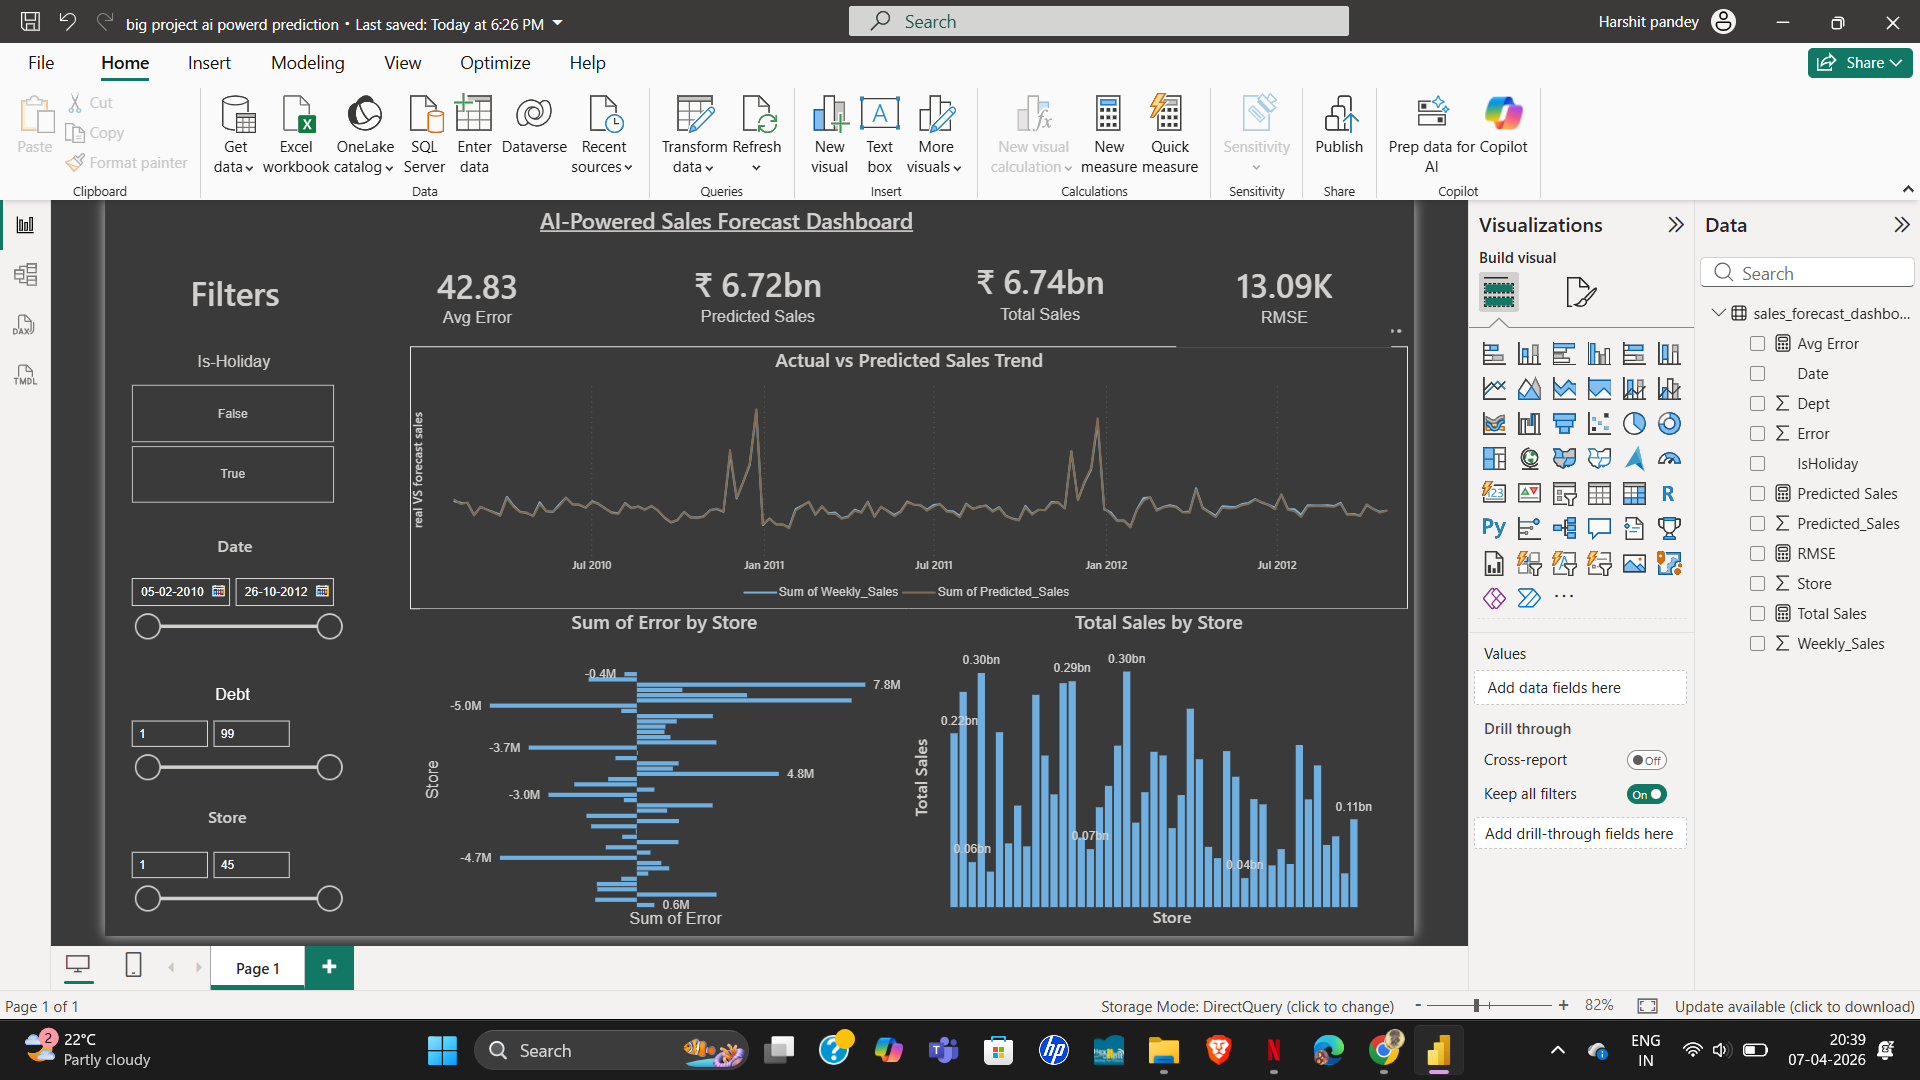

The page's visual inventory and layout, read from the dashboard file:
{"tool":"powerbi","page":{"name":"Page 1","canvas":[1280,720],"ordinal":0},"visuals":[{"type":"lineChart","title":"Actual vs Predicted Sales Trend","fields":{"Category":["sales_forecast_dashboard.Date"],"Y":["Sum(sales_forecast_dashboard.Weekly_Sales)","Sum(sales_forecast_dashboard.Predicted_Sales)"]},"box":[298.4,143.1,975.8,256.8],"z":0},{"type":"cardVisual","fields":{"Data":["sales_forecast_dashboard.Avg Error"]},"box":[240.3,42.8,245.8,99],"z":1},{"type":"cardVisual","fields":{"Data":["sales_forecast_dashboard.Predicted Sales"]},"box":[503.8,44,270.2,96.6],"z":2},{"type":"cardVisual","fields":{"Data":["sales_forecast_dashboard.Total Sales"]},"box":[809.5,40.4,209.1,96.6],"z":3},{"type":"cardVisual","fields":{"Data":["sales_forecast_dashboard.RMSE"]},"box":[1048,40.4,210.3,103.9],"z":4},{"type":"textbox","box":[420.7,0,380.3,44],"z":5},{"type":"clusteredBarChart","fields":{"Category":["sales_forecast_dashboard.Store"],"Y":["Sum(sales_forecast_dashboard.Error)"]},"box":[308.2,399.9,478.1,316.7],"z":6},{"type":"clusteredColumnChart","fields":{"Category":["sales_forecast_dashboard.Store"],"Y":["sales_forecast_dashboard.Total Sales"]},"box":[786.3,399.9,489.1,316.7],"z":7},{"type":"slicer","fields":{"Values":["sales_forecast_dashboard.Store"]},"box":[13.5,627.3,227.4,89.3],"z":8},{"type":"slicer","fields":{"Values":["sales_forecast_dashboard.Dept"]},"box":[13.5,498.9,227.4,77],"z":9},{"type":"slicer","fields":{"Values":["sales_forecast_dashboard.Date"]},"box":[13.5,359.5,227.4,89.3],"z":10},{"type":"slicer","fields":{"Values":["sales_forecast_dashboard.IsHoliday"]},"box":[0,173.6,248.2,129.6],"z":11},{"type":"textbox","box":[44,64.8,166.3,79.5],"z":12},{"type":"textbox","box":[85.6,321.6,83.2,37.9],"z":13},{"type":"textbox","box":[85.6,144.3,96.6,29.3],"z":14},{"type":"textbox","box":[90.5,467.1,68.5,31.8],"z":15},{"type":"textbox","box":[85.6,587,68.5,40.4],"z":16}]}

Visuals, with their boxes on the page's 1280x720 design canvas (x1, y1, x2, y2). These are canvas units, not pixel positions in the 1920x1080 screenshot, which may show the page scaled, cropped or inside an application window:
"Actual vs Predicted Sales Trend" lineChart: <bbox>298, 143, 1274, 400</bbox>
cardVisual - sales_forecast_dashboard.Avg Error: <bbox>240, 43, 486, 142</bbox>
cardVisual - sales_forecast_dashboard.Predicted Sales: <bbox>504, 44, 774, 141</bbox>
cardVisual - sales_forecast_dashboard.Total Sales: <bbox>810, 40, 1019, 137</bbox>
cardVisual - sales_forecast_dashboard.RMSE: <bbox>1048, 40, 1258, 144</bbox>
textbox: <bbox>421, 0, 801, 44</bbox>
clusteredBarChart - sales_forecast_dashboard.Store x Sum(sales_forecast_dashboard.Error): <bbox>308, 400, 786, 717</bbox>
clusteredColumnChart - sales_forecast_dashboard.Store x sales_forecast_dashboard.Total Sales: <bbox>786, 400, 1275, 717</bbox>
slicer - sales_forecast_dashboard.Store: <bbox>14, 627, 241, 717</bbox>
slicer - sales_forecast_dashboard.Dept: <bbox>14, 499, 241, 576</bbox>
slicer - sales_forecast_dashboard.Date: <bbox>14, 360, 241, 449</bbox>
slicer - sales_forecast_dashboard.IsHoliday: <bbox>0, 174, 248, 303</bbox>
textbox: <bbox>44, 65, 210, 144</bbox>
textbox: <bbox>86, 322, 169, 360</bbox>
textbox: <bbox>86, 144, 182, 174</bbox>
textbox: <bbox>90, 467, 159, 499</bbox>
textbox: <bbox>86, 587, 154, 627</bbox>
